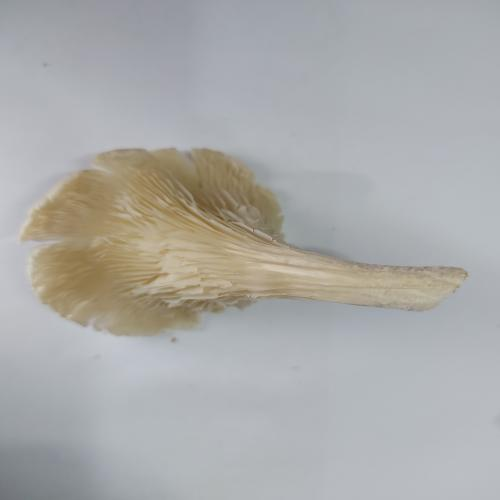Oyster Mushroom: (18, 146, 469, 337)
